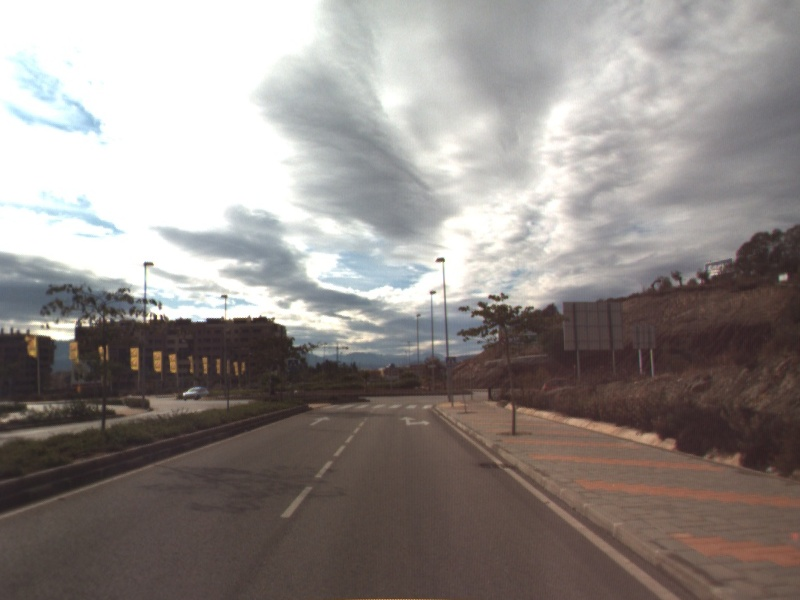STRAIGHT: (307, 414, 333, 427)
STRAIGHT_RIGHT: (397, 414, 432, 428)
